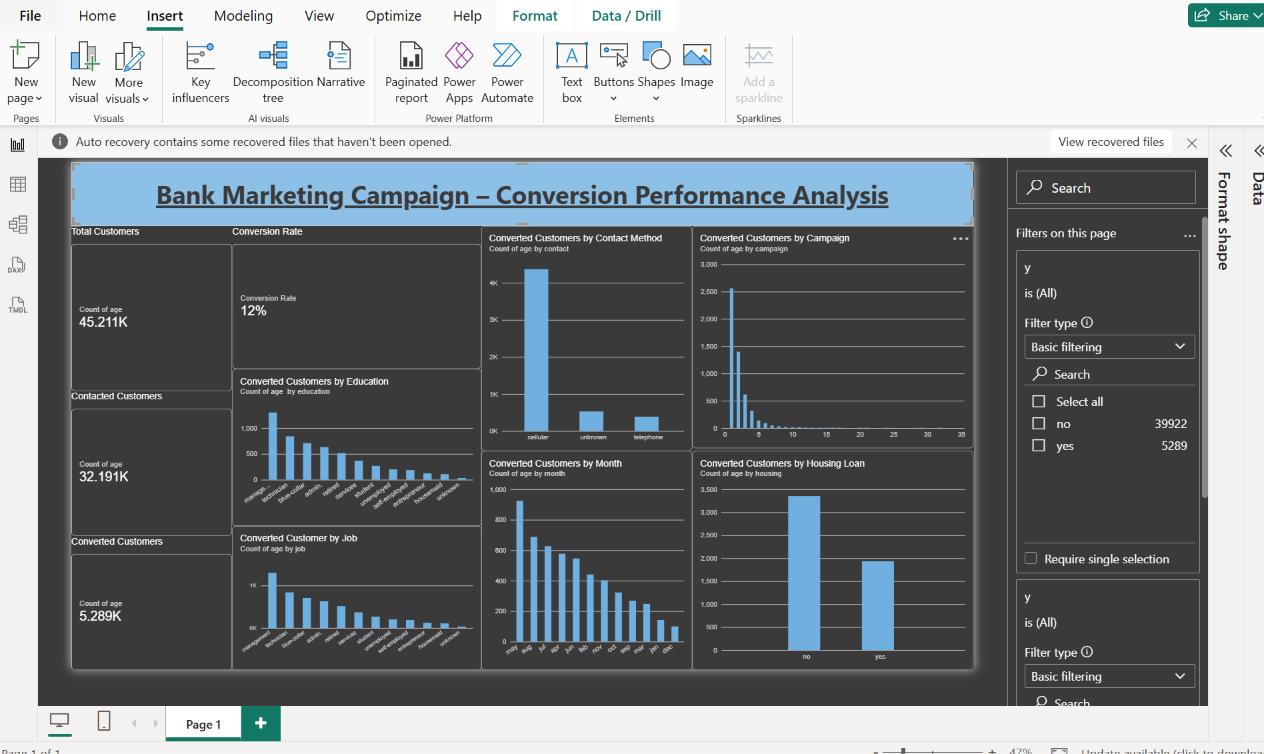

The page's visual inventory and layout, read from the dashboard file:
{"tool":"powerbi","page":{"name":"Page 1","canvas":[1920,1080],"ordinal":0},"visuals":[{"type":"cardVisual","title":"Total Customers","fields":{"Data":["CountNonNull(bank-full.age)"]},"box":[0,136.2,342.6,351.1],"z":0},{"type":"cardVisual","title":"Contacted Customers","fields":{"Data":["CountNonNull(bank-full.age)"]},"box":[0,487.2,342.6,308.5],"z":1},{"type":"cardVisual","title":"Converted Customers","fields":{"Data":["CountNonNull(bank-full.age)"]},"box":[0,795.7,342.6,285.1],"z":2},{"type":"cardVisual","title":"Conversion Rate","fields":{"Data":["bank-full.Conversion Rate"]},"box":[342.6,136.2,529.8,304.3],"z":3},{"type":"clusteredColumnChart","title":"Converted Customers by Education","fields":{"Category":["bank-full.job"],"Y":["CountNonNull(bank-full.age)"]},"box":[342.6,440.4,529.8,334],"z":4},{"type":"columnChart","title":"Converted Customer by Job","fields":{"Category":["bank-full.job"],"Y":["CountNonNull(bank-full.age)"]},"box":[342.6,774.5,529.8,306.4],"z":6},{"type":"columnChart","title":"Converted Customers by Contact Method","fields":{"Category":["bank-full.contact"],"Y":["CountNonNull(bank-full.age)"]},"box":[872.3,136.2,448.9,478.7],"z":7},{"type":"columnChart","title":"Converted Customers by Month ","fields":{"Category":["bank-full.month"],"Y":["CountNonNull(bank-full.age)"]},"box":[872.3,614.9,448.9,466],"z":8},{"type":"columnChart","title":"Converted Customers by Campaign","fields":{"Category":["bank-full.campaign"],"Y":["CountNonNull(bank-full.age)"]},"box":[1321.3,136.2,597.9,472.3],"z":9},{"type":"columnChart","title":"Converted Customers by Housing Loan","fields":{"Category":["bank-full.housing"],"Y":["CountNonNull(bank-full.age)"]},"box":[1321.3,614.9,597.9,466],"z":10},{"type":"shape","box":[0,0,1919.1,136.2],"z":11}]}

Visuals, with their boxes on the page's 1920x1080 design canvas (x1, y1, x2, y2). These are canvas units, not pixel positions in the 1264x754 screenshot, which may show the page scaled, cropped or inside an application window:
"Total Customers" cardVisual: (0, 136, 343, 487)
"Contacted Customers" cardVisual: (0, 487, 343, 796)
"Converted Customers" cardVisual: (0, 796, 343, 1081)
"Conversion Rate" cardVisual: (343, 136, 872, 440)
"Converted Customers by Education" clusteredColumnChart: (343, 440, 872, 774)
"Converted Customer by Job" columnChart: (343, 774, 872, 1081)
"Converted Customers by Contact Method" columnChart: (872, 136, 1321, 615)
"Converted Customers by Month " columnChart: (872, 615, 1321, 1081)
"Converted Customers by Campaign" columnChart: (1321, 136, 1919, 608)
"Converted Customers by Housing Loan" columnChart: (1321, 615, 1919, 1081)
shape: (0, 0, 1919, 136)
